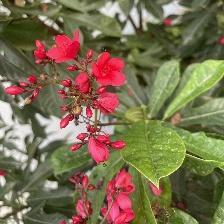jatropha: (93, 52, 128, 89)
